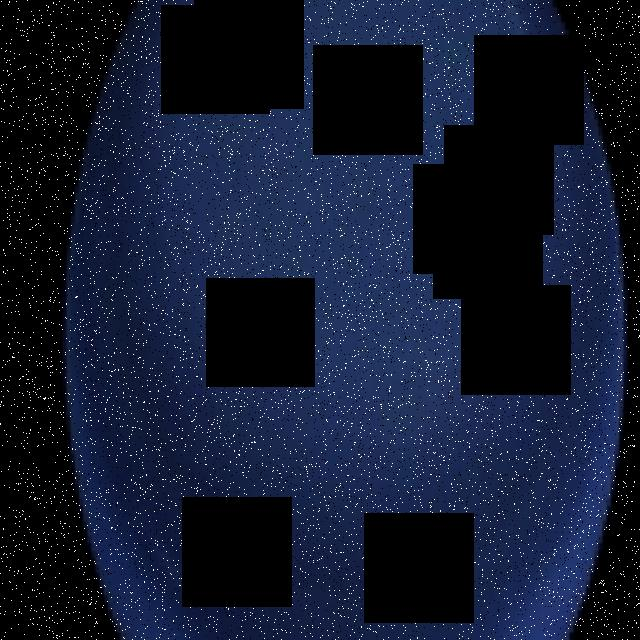Neptune: (62, 0, 632, 640)
